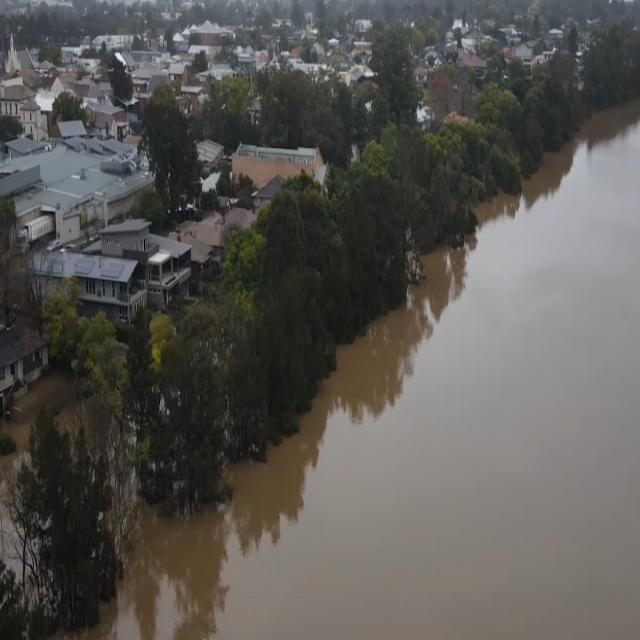flood: (59, 101, 640, 640)
house: (230, 140, 326, 198), (0, 309, 46, 422), (0, 164, 50, 256), (85, 248, 144, 320), (50, 184, 105, 248), (144, 238, 195, 307), (0, 80, 34, 118), (20, 100, 44, 141)
